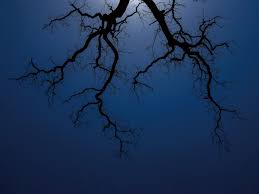sky: (3, 4, 259, 192)
tree: (50, 1, 233, 157)
